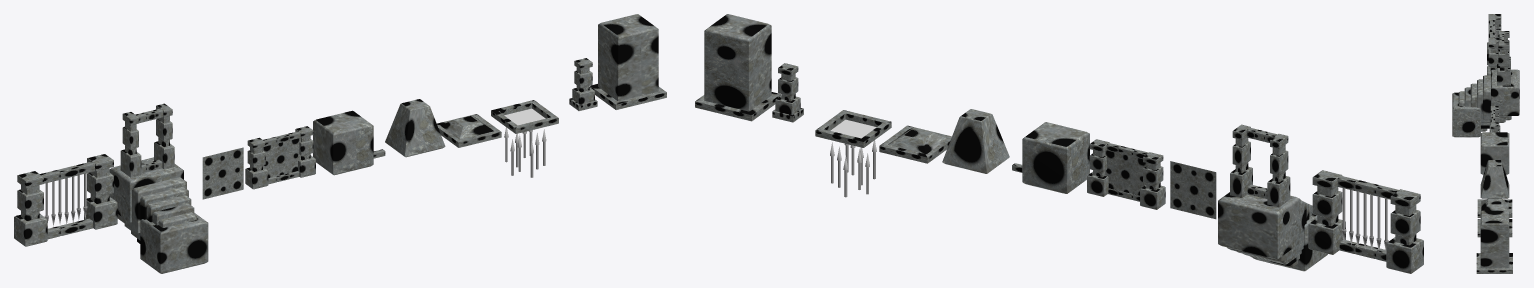
The model's file is Blocks Kit.fbx.
3 renders of one model, left to right at view 1: azimuth 30°, elevation 25°; view 2: azimuth 150°, elevation 25°; view 3: azimuth 270°, elevation 25°, orthographic. The views are drawn at different scales.
Parts seen in each view (by area): view 1: Level_Exit, Bid_Pillar, Room_Entrance, Block, Tile3, Triangle_Block, Tile2, Murder_Holes, Small_Pillar, Spikes4, Spikes, Pressure_Plate_Switch (+1 smaller); view 2: Level_Exit, Bid_Pillar, Room_Entrance, Block, Tile3, Triangle_Block, Tile2, Murder_Holes, Spikes4, Small_Pillar, Spikes, Triangle_Block1 (+1 smaller); view 3: Level_Exit, Bid_Pillar, Block, Triangle_Block, Room_Entrance, Triangle_Block1, Tile3, Pressure_Plate_Switch, Murder_Holes.
Boxes of the visible parts, left/top/right/bottom form: Level_Exit: left=109, top=103, right=208, bottom=273; Bid_Pillar: left=590, top=14, right=666, bottom=109; Room_Entrance: left=14, top=154, right=117, bottom=246; Block: left=313, top=110, right=373, bottom=175; Tile3: left=245, top=126, right=315, bottom=189; Triangle_Block: left=385, top=99, right=445, bottom=157; Tile2: left=202, top=147, right=243, bottom=199; Murder_Holes: left=491, top=100, right=558, bottom=133; Small_Pillar: left=569, top=58, right=597, bottom=110; Spikes4: left=44, top=173, right=87, bottom=226; Spikes: left=504, top=127, right=546, bottom=177; Pressure_Plate_Switch: left=437, top=114, right=501, bottom=147; Level_Exit: left=1218, top=124, right=1327, bottom=271; Bid_Pillar: left=695, top=14, right=780, bottom=121; Room_Entrance: left=1308, top=170, right=1423, bottom=273; Block: left=1022, top=122, right=1089, bottom=193; Tile3: left=1087, top=139, right=1165, bottom=209; Triangle_Block: left=942, top=109, right=1009, bottom=173; Tile2: left=1170, top=161, right=1216, bottom=219; Murder_Holes: left=815, top=110, right=891, bottom=147; Spikes4: left=1341, top=187, right=1388, bottom=252; Small_Pillar: left=772, top=63, right=803, bottom=122; Spikes: left=830, top=140, right=876, bottom=197; Triangle_Block1: left=888, top=127, right=947, bottom=153; Level_Exit: left=1452, top=31, right=1519, bottom=137; Bid_Pillar: left=1476, top=210, right=1512, bottom=273; Block: left=1480, top=132, right=1509, bottom=174; Triangle_Block: left=1480, top=160, right=1509, bottom=198; Room_Entrance: left=1487, top=14, right=1501, bottom=75; Triangle_Block1: left=1481, top=198, right=1508, bottom=210; Tile3: left=1489, top=106, right=1500, bottom=132; Pressure_Plate_Switch: left=1477, top=199, right=1512, bottom=217; Murder_Holes: left=1477, top=219, right=1512, bottom=237.
Size of the model in its own units: 4233 by 934 by 555.
